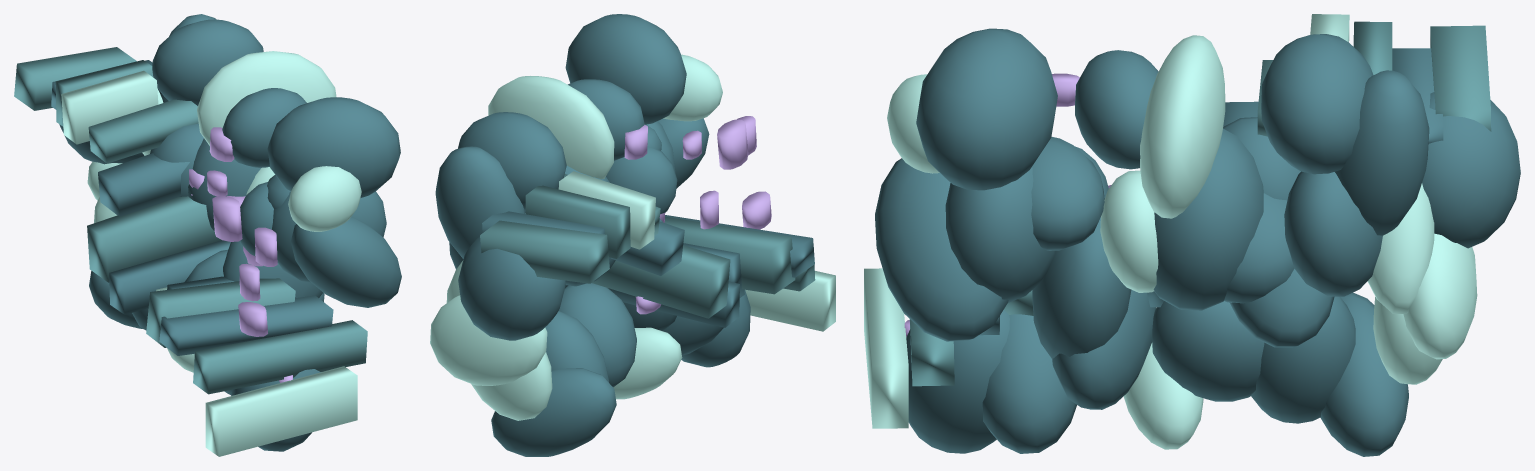
Rendered from reef-stack-far-01.glb.
3 renders of one model, left to right at view 1: azimuth 30°, elevation 25°; view 2: azimuth 150°, elevation 25°; view 3: azimuth 270°, elevation 25°, orthographic. The views are drawn at different scales.
Parts seen in each view (by area): view 1: reef_stack_far_01_faceted_boulder_03, reef_stack_far_01_stratified_shelf_00, reef_stack_far_01_stratified_shelf_01, reef_stack_far_01_faceted_boulder_19, reef_stack_far_01_stratified_shelf_07, reef_stack_far_01_faceted_boulder_02, reef_stack_far_01_faceted_boulder_04, reef_stack_far_01_stratified_shelf_02, reef_stack_far_01_stratified_shelf_10, reef_stack_far_01_stratified_shelf_09, reef_stack_far_01_stratified_shelf_08, reef_stack_far_01_stratified_shelf_03 (+23 smaller); view 2: reef_stack_far_01_faceted_boulder_03, reef_stack_far_01_faceted_boulder_27, reef_stack_far_01_faceted_boulder_13, reef_stack_far_01_faceted_boulder_04, reef_stack_far_01_faceted_boulder_08, reef_stack_far_01_faceted_boulder_05, reef_stack_far_01_faceted_boulder_02, reef_stack_far_01_stratified_shelf_07, reef_stack_far_01_stratified_shelf_13, reef_stack_far_01_stratified_shelf_03, reef_stack_far_01_faceted_boulder_15, reef_stack_far_01_stratified_shelf_11 (+24 smaller); view 3: reef_stack_far_01_faceted_boulder_03, reef_stack_far_01_faceted_boulder_19, reef_stack_far_01_faceted_boulder_23, reef_stack_far_01_faceted_boulder_02, reef_stack_far_01_faceted_boulder_04, reef_stack_far_01_faceted_boulder_27, reef_stack_far_01_faceted_boulder_05, reef_stack_far_01_faceted_boulder_22, reef_stack_far_01_faceted_boulder_21, reef_stack_far_01_faceted_boulder_15, reef_stack_far_01_faceted_boulder_17, reef_stack_far_01_faceted_boulder_14 (+22 smaller).
Boxes of the visible parts, <box> form: reef_stack_far_01_faceted_boulder_03: <box>267,97,400,197</box>; reef_stack_far_01_stratified_shelf_00: <box>205,366,357,456</box>; reef_stack_far_01_stratified_shelf_01: <box>193,320,367,394</box>; reef_stack_far_01_faceted_boulder_19: <box>291,216,401,307</box>; reef_stack_far_01_stratified_shelf_07: <box>87,196,221,282</box>; reef_stack_far_01_faceted_boulder_02: <box>152,19,263,105</box>; reef_stack_far_01_faceted_boulder_04: <box>197,51,336,145</box>; reef_stack_far_01_stratified_shelf_02: <box>159,295,333,355</box>; reef_stack_far_01_stratified_shelf_10: <box>61,70,158,144</box>; reef_stack_far_01_stratified_shelf_09: <box>88,99,198,163</box>; reef_stack_far_01_stratified_shelf_08: <box>98,153,189,216</box>; reef_stack_far_01_stratified_shelf_03: <box>146,278,295,347</box>; reef_stack_far_01_faceted_boulder_03: <box>565,14,686,124</box>; reef_stack_far_01_faceted_boulder_27: <box>458,236,565,340</box>; reef_stack_far_01_faceted_boulder_13: <box>491,368,616,456</box>; reef_stack_far_01_faceted_boulder_04: <box>488,76,614,179</box>; reef_stack_far_01_faceted_boulder_08: <box>430,295,547,385</box>; reef_stack_far_01_faceted_boulder_05: <box>435,146,524,258</box>; reef_stack_far_01_faceted_boulder_02: <box>458,112,566,211</box>; reef_stack_far_01_stratified_shelf_07: <box>592,245,730,318</box>; reef_stack_far_01_stratified_shelf_13: <box>480,220,609,283</box>; reef_stack_far_01_stratified_shelf_03: <box>664,216,795,294</box>; reef_stack_far_01_faceted_boulder_15: <box>558,283,636,387</box>; reef_stack_far_01_stratified_shelf_11: <box>525,185,630,258</box>; reef_stack_far_01_faceted_boulder_03: <box>916,28,1057,190</box>; reef_stack_far_01_faceted_boulder_19: <box>875,158,1008,341</box>; reef_stack_far_01_faceted_boulder_23: <box>1153,128,1263,310</box>; reef_stack_far_01_faceted_boulder_02: <box>1261,34,1373,174</box>; reef_stack_far_01_faceted_boulder_04: <box>1140,35,1225,218</box>; reef_stack_far_01_faceted_boulder_27: <box>1422,92,1520,248</box>; reef_stack_far_01_faceted_boulder_05: <box>1335,70,1429,235</box>; reef_stack_far_01_faceted_boulder_22: <box>945,167,1055,302</box>; reef_stack_far_01_faceted_boulder_21: <box>1284,171,1382,296</box>; reef_stack_far_01_faceted_boulder_15: <box>1152,301,1264,401</box>; reef_stack_far_01_faceted_boulder_17: <box>1032,217,1131,359</box>; reef_stack_far_01_faceted_boulder_14: <box>982,314,1076,453</box>.
Size of the model in its own units: 3.6 by 4.71 by 6.17.
